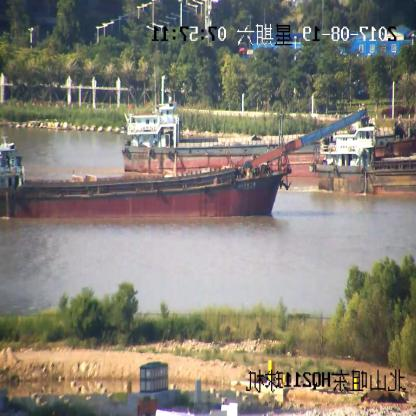Bulk Carrier: (0, 107, 365, 220), (121, 101, 378, 168), (314, 126, 415, 192)
